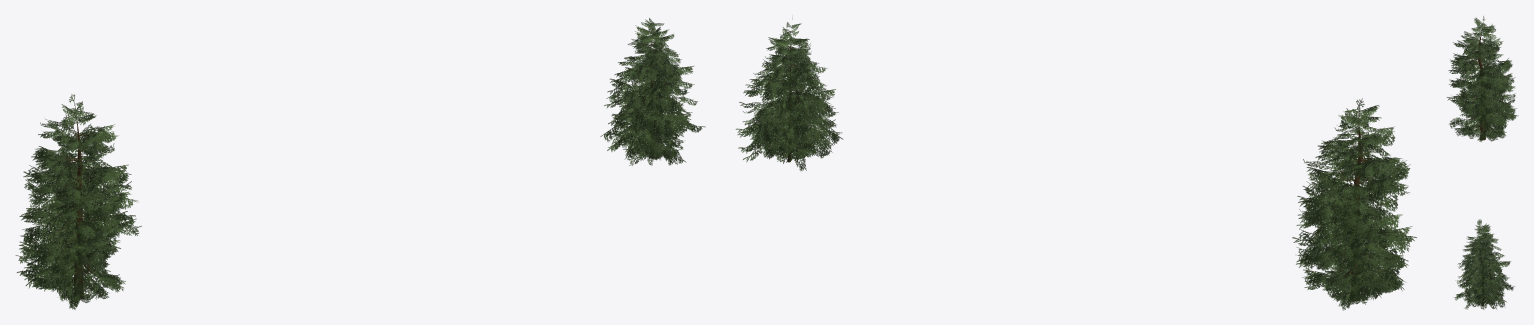
File: tree-fir-pack.glb
3 views of the same model, side by side, from view 1: azimuth 30°, elevation 25°; view 2: azimuth 150°, elevation 25°; view 3: azimuth 270°, elevation 25° (orthographic). The views are drawn at different scales.
Parts seen in each view (by area): view 1: Christmas tree_LOD0, Christmas tree_6_LOD0; view 2: Christmas tree_LOD0, Christmas tree_6_LOD0; view 3: Christmas tree_LOD0, Christmas tree_6_LOD0.
Part boxes in pixels (x1,y1,x2,y2): Christmas tree_LOD0: (15, 94, 141, 309); Christmas tree_6_LOD0: (600, 18, 705, 165); Christmas tree_LOD0: (1292, 98, 1416, 310); Christmas tree_6_LOD0: (735, 18, 843, 170); Christmas tree_LOD0: (1447, 16, 1518, 142); Christmas tree_6_LOD0: (1453, 219, 1514, 309).
Size of what is drawn, in the model's own units: 31.74 by 9.29 by 5.04.
2 materials, 2 textured.
